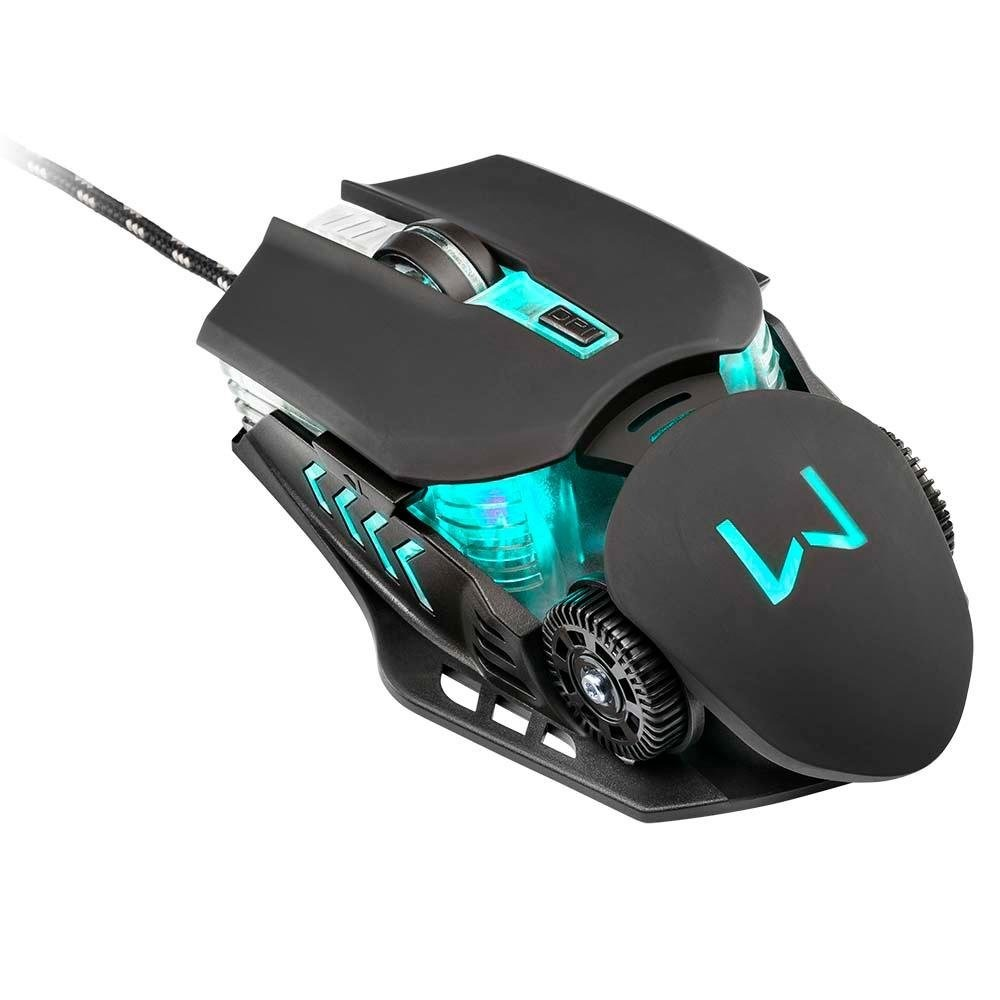mouse: (178, 130, 990, 800)
